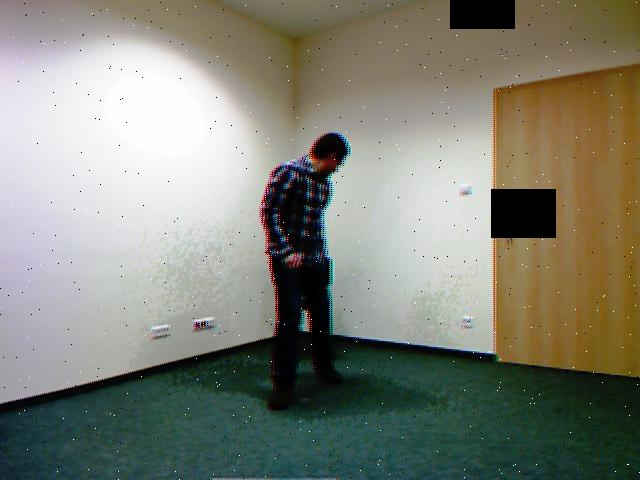walking: (247, 118, 364, 415)
